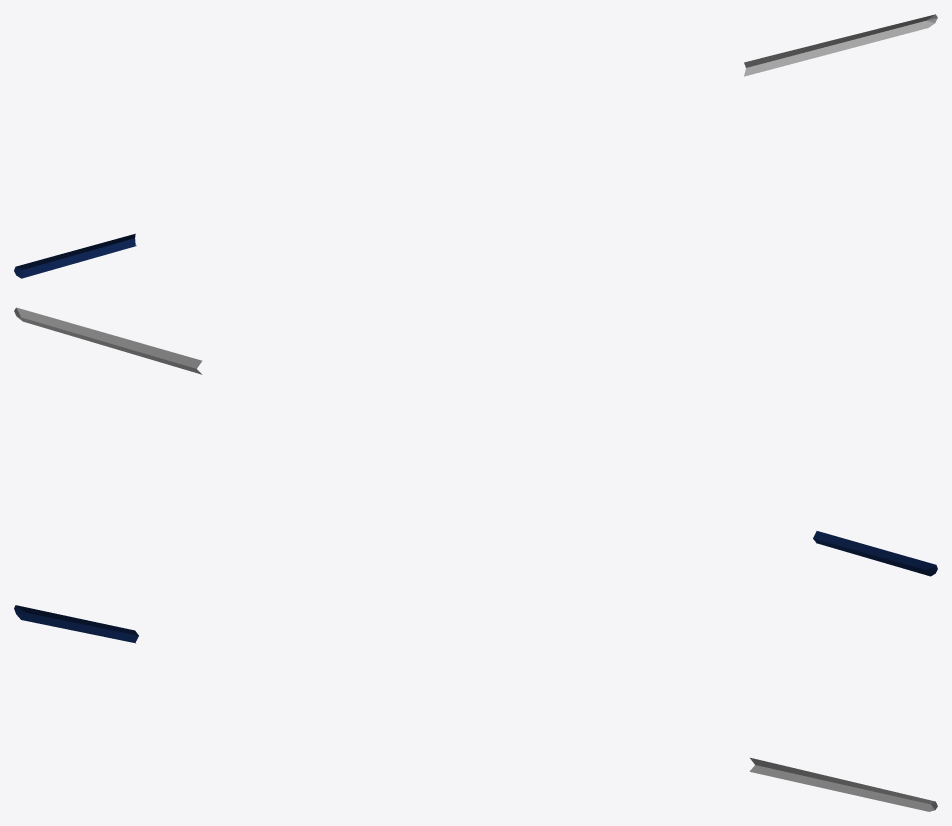
3 views of the same model, one above another, from view 1: azimuth 30°, elevation 25°; view 2: azimuth 150°, elevation 25°; view 3: azimuth 330°, elevation 25° (orthographic).
Parts seen in each view (by area): view 1: SubMesh0020; view 2: SubMesh0020; view 3: SubMesh0020.
Part boxes in pixels (x1=…): SubMesh0020: x1=14, y1=14, x2=937, y2=278; SubMesh0020: x1=14, y1=307, x2=937, y2=576; SubMesh0020: x1=14, y1=605, x2=937, y2=811.
Bounding box in the file's own units: 1.89 × 0.0855 × 0.018.
